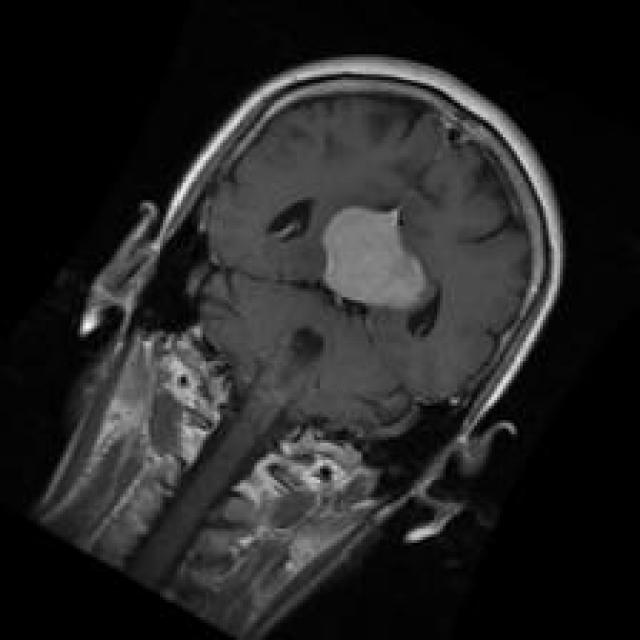meningioma_tumor: (312, 193, 448, 317)
